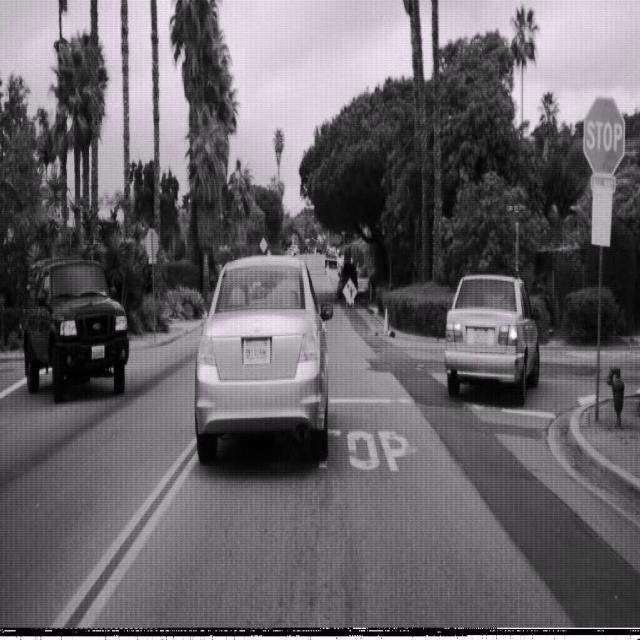stop: (583, 96, 625, 178)
